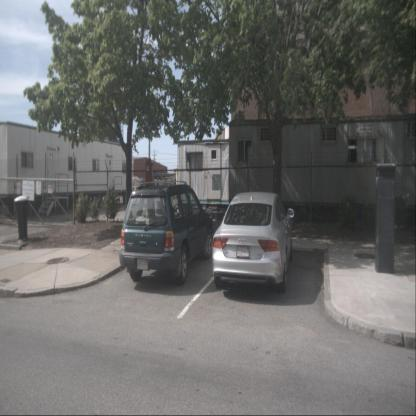vehicle-car: (119, 181, 213, 285), (212, 192, 293, 292)
